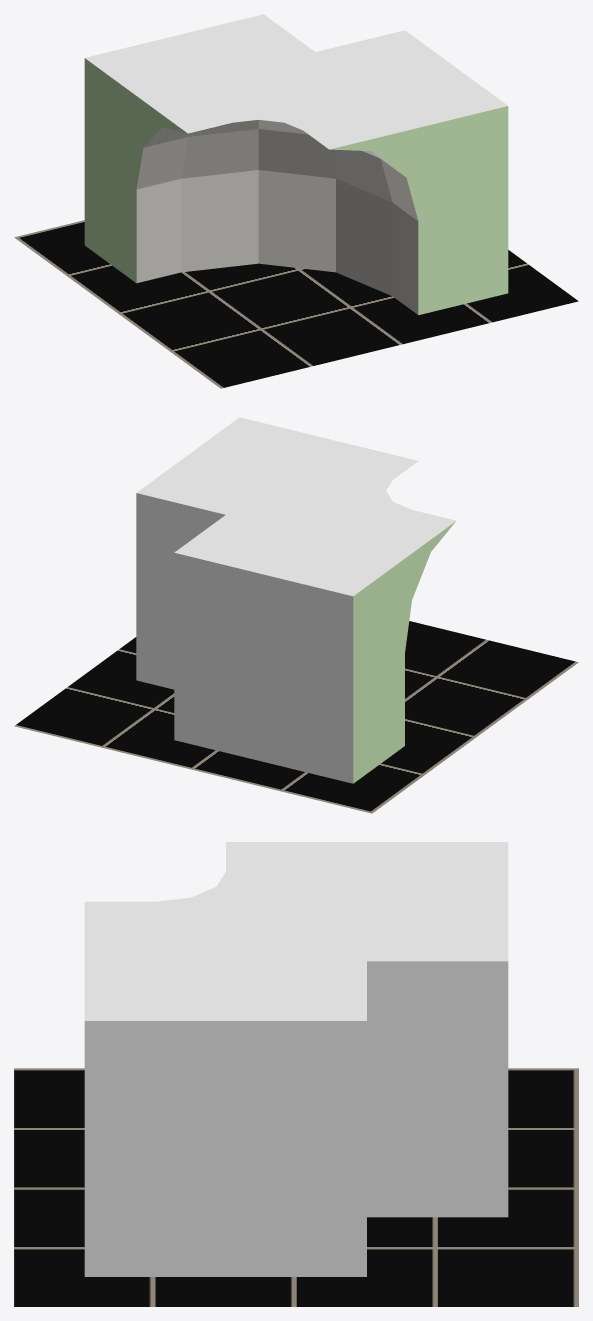
File: Wall_Curve_Inner_3x3_Top.glb
The picture shows the model from 3 angles, top to bottom: view 1: azimuth 30°, elevation 25°; view 2: azimuth 150°, elevation 25°; view 3: azimuth 270°, elevation 25°; orthographic projection. The views are drawn at different scales.
Visible parts, largest first — view 1: Wall_Curve_Inner_3x3_Top, Floor; view 2: Wall_Curve_Inner_3x3_Top, Floor; view 3: Wall_Curve_Inner_3x3_Top, Floor.
Part boxes in pixels (box(x1,y1,x2,y2)): Wall_Curve_Inner_3x3_Top: box(84, 14, 508, 315); Floor: box(14, 220, 578, 388); Wall_Curve_Inner_3x3_Top: box(136, 417, 456, 783); Floor: box(14, 621, 578, 813); Wall_Curve_Inner_3x3_Top: box(84, 842, 508, 1276); Floor: box(14, 1068, 578, 1306).
Size of the model in its own units: 400 by 200 by 400.
Materials: 5 (1 with a texture image).
